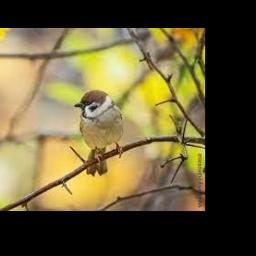Sparrow: (75, 92, 123, 174)
